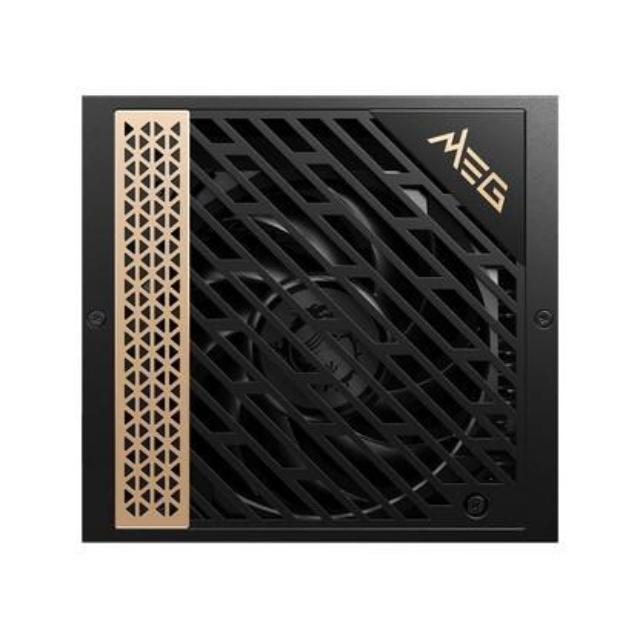PSU: (72, 82, 570, 560)
